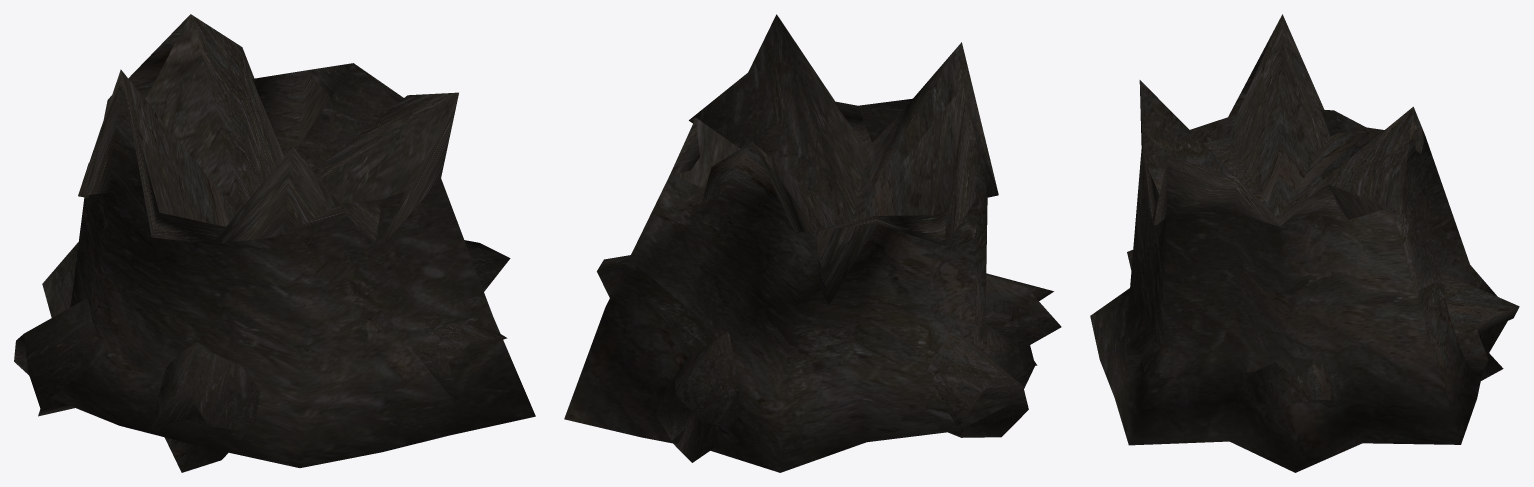
File: area4-charred-stump.glb
The picture shows the model from 3 angles, left to right: view 1: azimuth 30°, elevation 25°; view 2: azimuth 150°, elevation 25°; view 3: azimuth 270°, elevation 25°; orthographic projection. The views are drawn at different scales.
Visible parts, largest first — view 1: A04_Splintered_Stump; view 2: A04_Splintered_Stump; view 3: A04_Splintered_Stump.
Boxes of the visible parts, box(x1,y1,x2,y2) form: A04_Splintered_Stump: box(14, 14, 535, 472); A04_Splintered_Stump: box(564, 14, 1061, 472); A04_Splintered_Stump: box(1090, 14, 1519, 472).
Size of the model in its own units: 1.14 by 0.85 by 1.09.
Materials: 1 (1 with a texture image).
